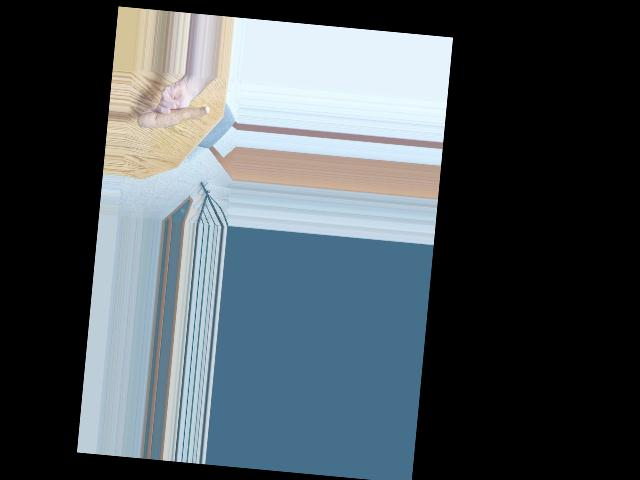sweet_potato: (138, 99, 212, 138)
